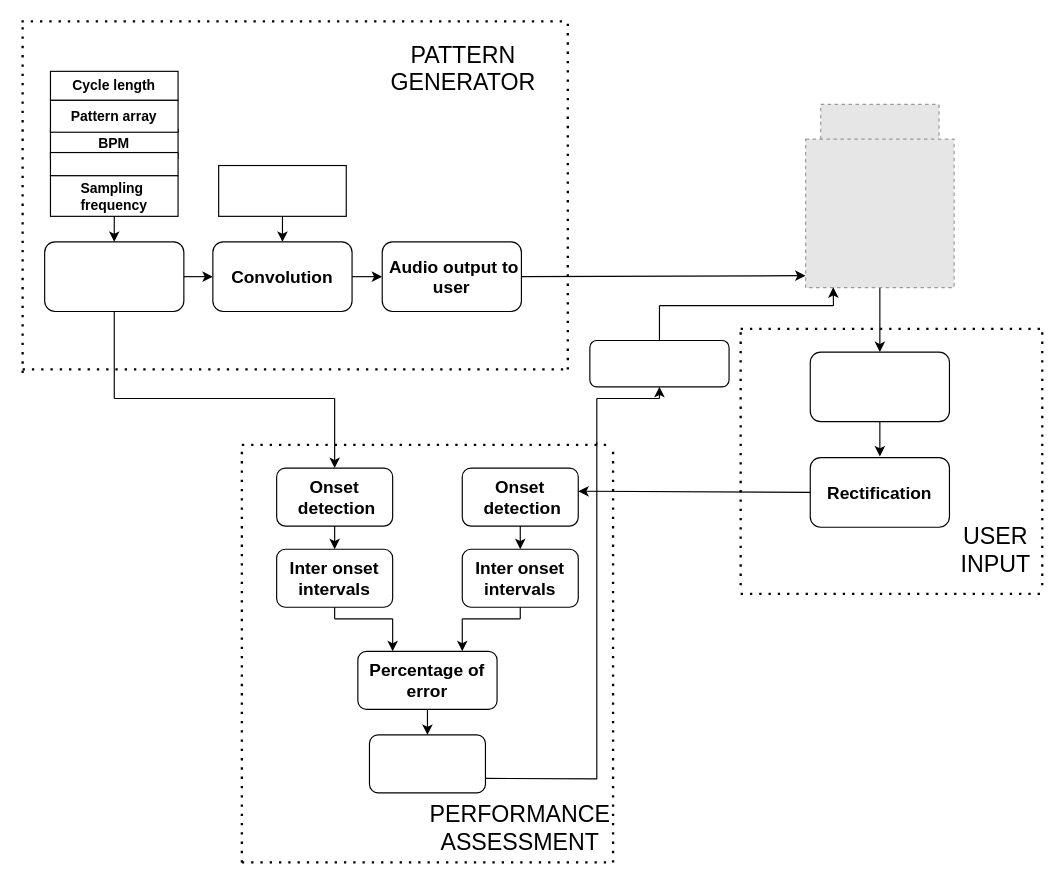
Some shapes in this 1064 by 884 pixel diagram are drawn without their labels. Grey dashed boxes stand in for pictures. The shapes that lost their labels are listed below. From the top down, each one's centre as x and y in pixels, then its label:
the point at 113,163: No. of repeats
the point at 281,190: Sample impulse signal
the point at 114,276: Pulse Generator
the point at 659,363: Feedback to user
the point at 879,386: Recorded input from user
the point at 426,763: Deviation graphs
